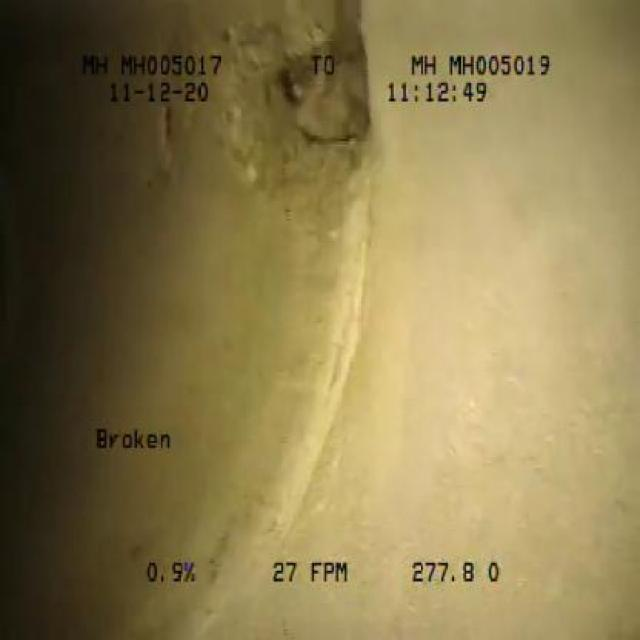Hole: (212, 0, 416, 188)
